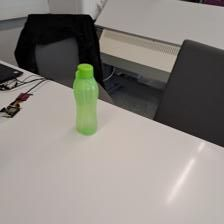bottle: (71, 62, 100, 136)
